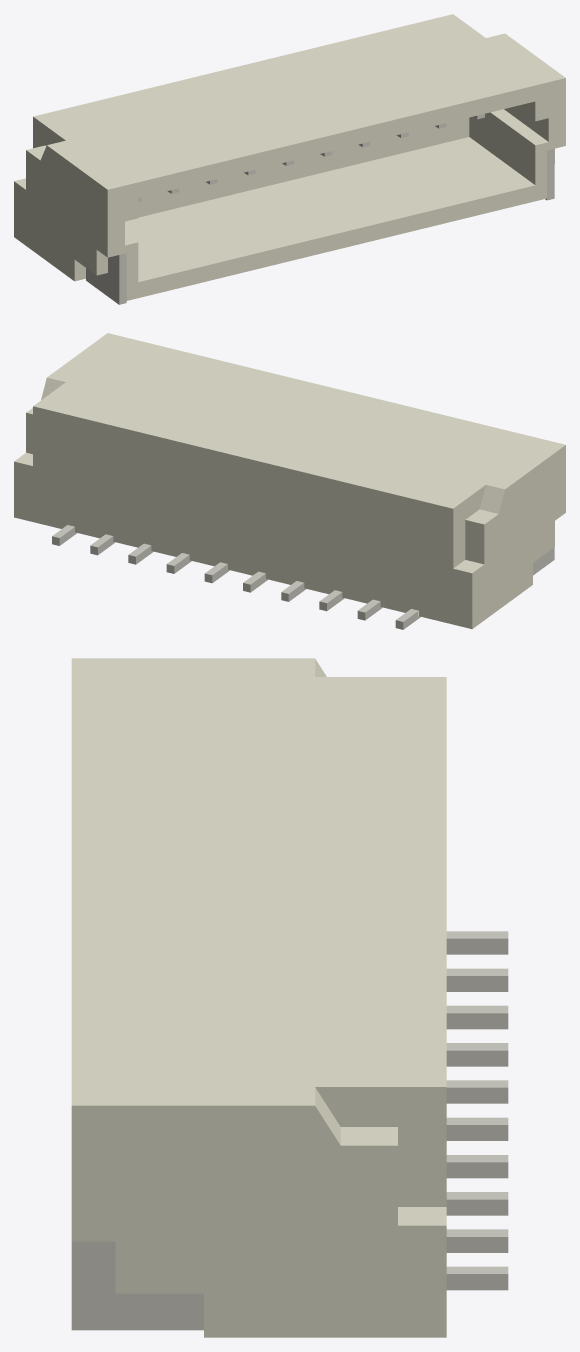
Rendered from kc-jst_sh_sm10b-srss-tb_1x10-1mp_p1.00mm_horizontal.glb.
The picture shows the model from 3 angles, top to bottom: view 1: azimuth 30°, elevation 25°; view 2: azimuth 150°, elevation 25°; view 3: azimuth 270°, elevation 25°; orthographic projection. The views are drawn at different scales.
Parts seen in each view (by area): view 1: 0.75_0.75_0.6666666666666666_0, 0.6666666666666666_0.6666666666666666_0.5833333333333334_0.8; view 2: 0.75_0.75_0.6666666666666666_0, 0.6666666666666666_0.6666666666666666_0.5833333333333334_0.8; view 3: 0.75_0.75_0.6666666666666666_0, 0.6666666666666666_0.6666666666666666_0.5833333333333334_0.8.
Boxes of the visible parts, <box> form: 0.75_0.75_0.6666666666666666_0: <box>14,14,565,300</box>; 0.6666666666666666_0.6666666666666666_0.5833333333333334_0.8: <box>86,114,554,304</box>; 0.75_0.75_0.6666666666666666_0: <box>14,333,565,628</box>; 0.6666666666666666_0.6666666666666666_0.5833333333333334_0.8: <box>52,525,554,629</box>; 0.75_0.75_0.6666666666666666_0: <box>71,658,446,1337</box>; 0.6666666666666666_0.6666666666666666_0.5833333333333334_0.8: <box>71,931,508,1330</box>.
Size of the model in its own units: 1.2 by 0.296 by 0.495.
